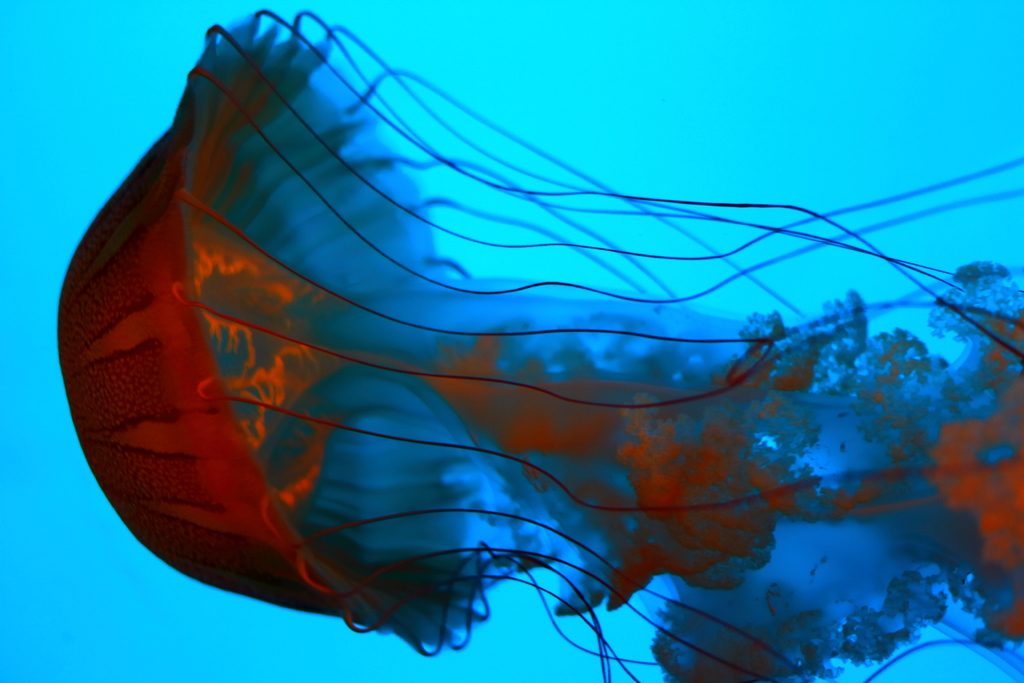Jellyfish: (40, 19, 1016, 669)
